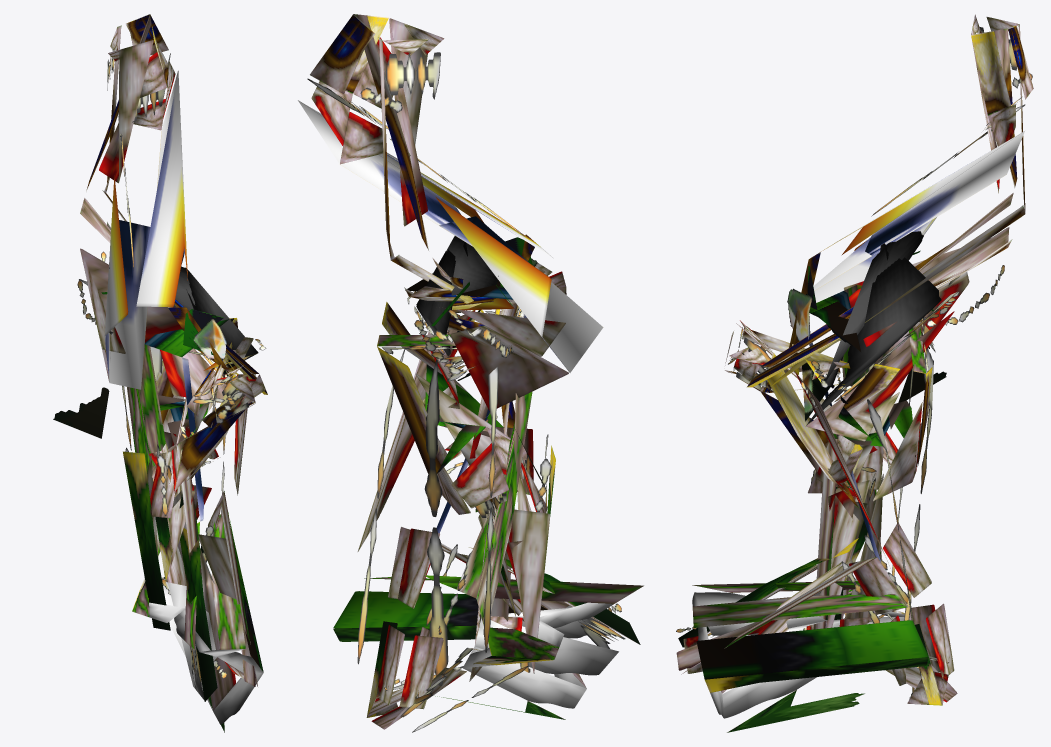
3 views of the same model, side by side, from view 1: azimuth 30°, elevation 25°; view 2: azimuth 150°, elevation 25°; view 3: azimuth 270°, elevation 25° (orthographic). The views are drawn at different scales.
Visible parts, largest first — view 1: T1L5M001_4; view 2: T1L5M001_4; view 3: T1L5M001_4.
Boxes of the visible parts, <box> form: T1L5M001_4: <box>53,14,267,732</box>; T1L5M001_4: <box>298,14,643,732</box>; T1L5M001_4: <box>676,14,1033,732</box>.
Bounding box in the file's own units: 0.8382 × 2.55 × 1.15.
